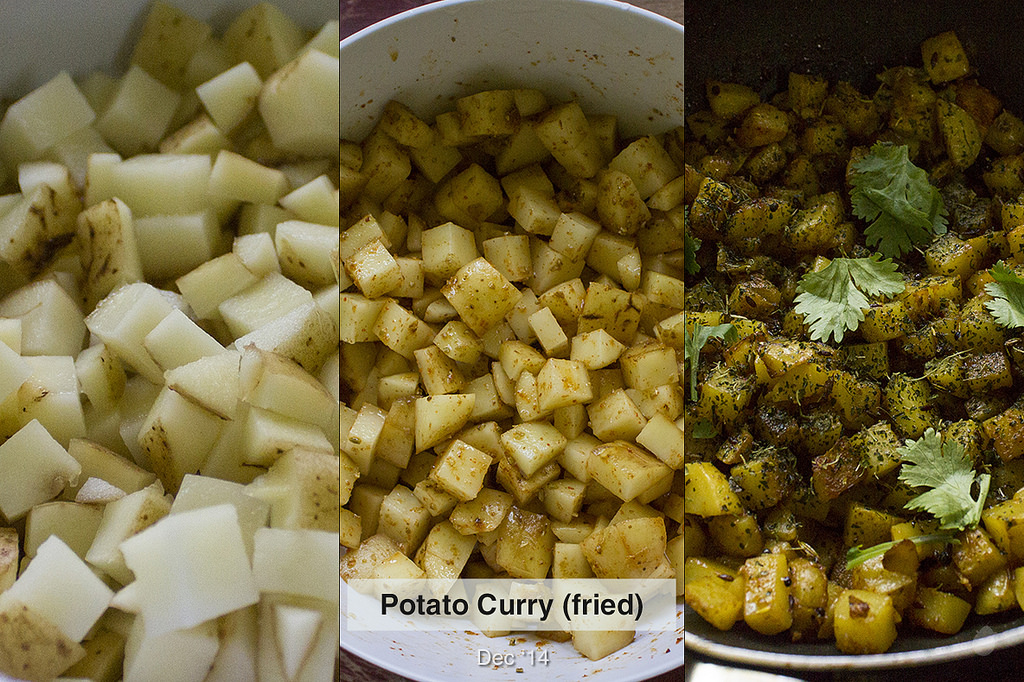boiled potatoes: (12, 64, 282, 665), (709, 116, 1021, 609), (361, 119, 681, 575)
